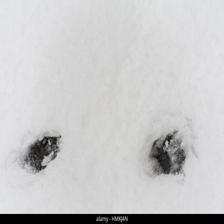raccoon: (146, 132, 189, 182)
